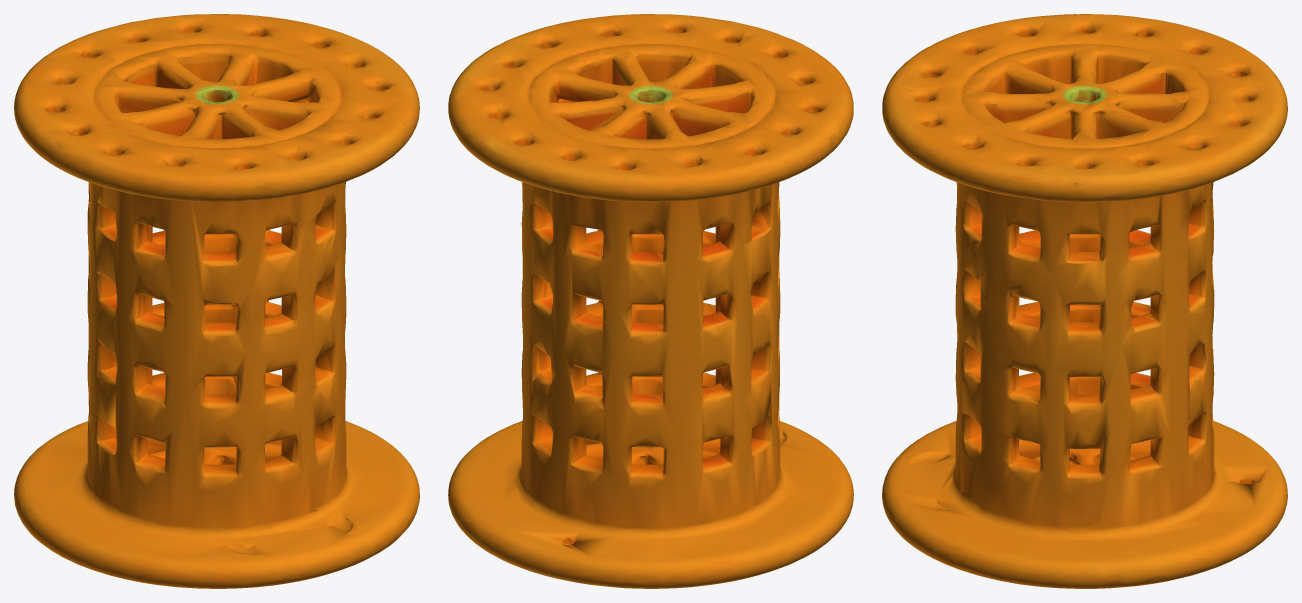
Rendered from bobbin.glb.
The picture shows the model from 3 angles, left to right: view 1: azimuth 30°, elevation 25°; view 2: azimuth 150°, elevation 25°; view 3: azimuth 270°, elevation 25°; orthographic projection.
Parts seen in each view (by area): view 1: Mesh_0; view 2: Mesh_0; view 3: Mesh_0.
Boxes of the visible parts, <box> form: Mesh_0: <box>14,14,419,588</box>; Mesh_0: <box>448,14,853,588</box>; Mesh_0: <box>882,14,1287,588</box>.
Bounding box in the file's own units: 1.7 × 1.91 × 1.7.
Materials: 1 (1 with a texture image).
